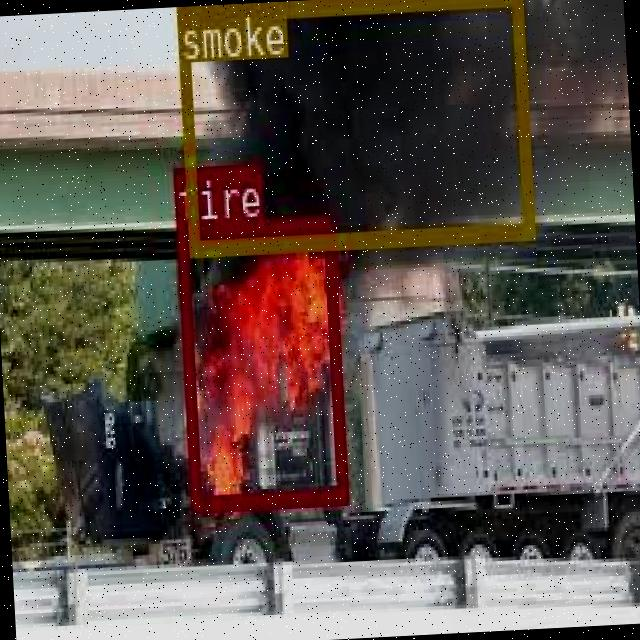fire: (174, 214, 347, 508)
smoke: (176, 0, 530, 252)
